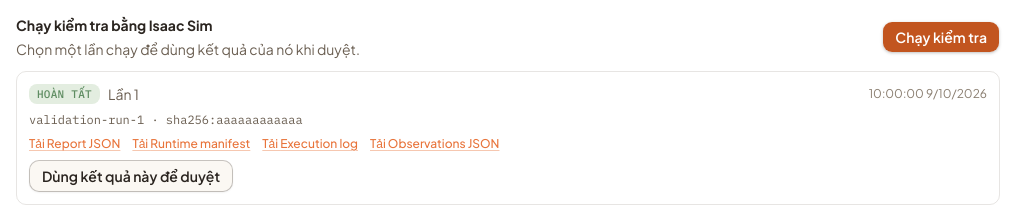
Scenario: ValidationRunsPanel › selects a completed report with the candidate and current selection CAS
Click the button "Dùng kết quả này để duyệt" at (131, 176), box top-left (29, 160), bottom-right (233, 192)
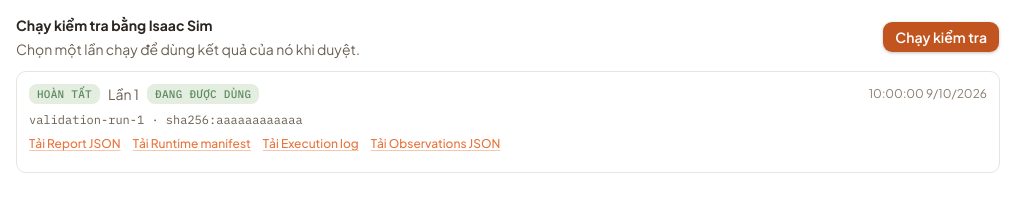
Now the text "Đang được dùng" is shown, box top-left (147, 84), bottom-right (259, 104)
